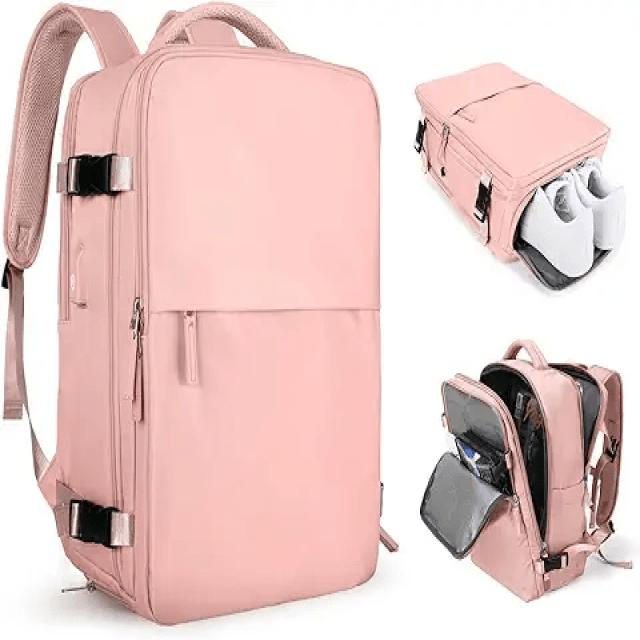backpack: (1, 1, 401, 636), (417, 336, 639, 607), (409, 59, 635, 297)
